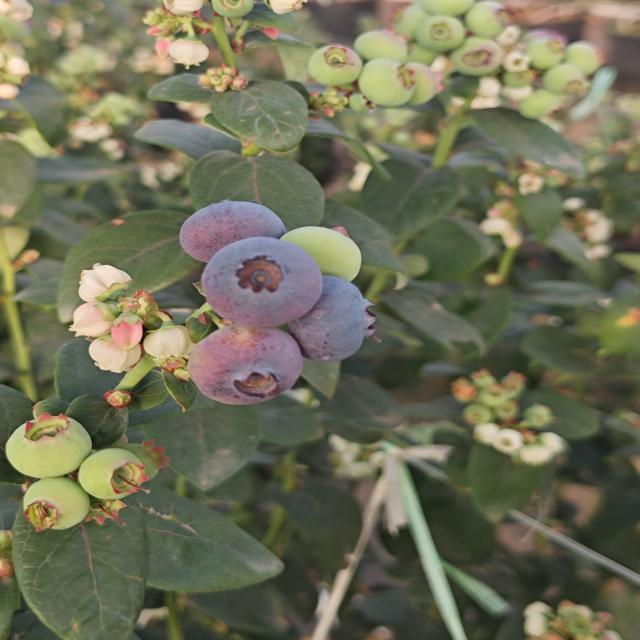ripe: (175, 326, 308, 412), (197, 242, 318, 330), (307, 273, 380, 372), (166, 205, 283, 251)
